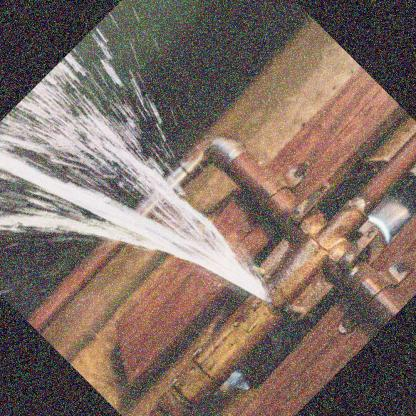burst: (214, 240, 287, 323)
